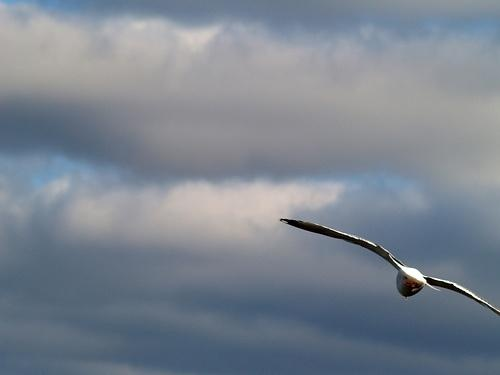bird: (280, 218, 500, 317)
